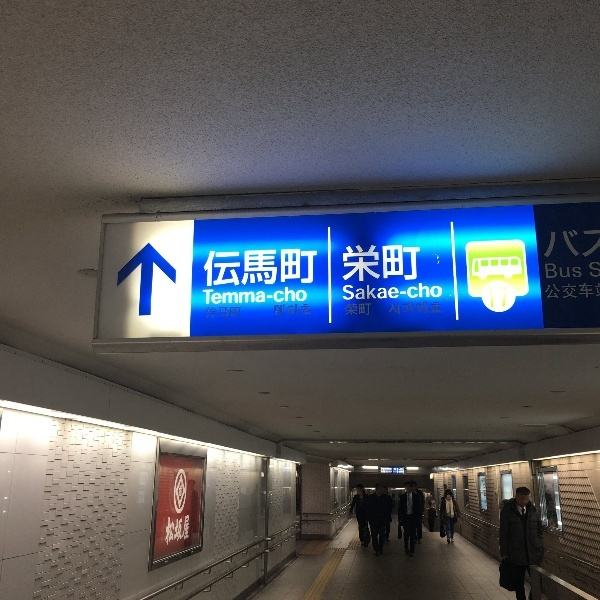text: (209, 247, 224, 288), (225, 247, 240, 288), (241, 247, 256, 288), (257, 247, 272, 288), (273, 247, 288, 288), (289, 247, 304, 288), (353, 243, 368, 283), (369, 243, 384, 283), (385, 243, 400, 283), (401, 243, 416, 283), (545, 223, 560, 262), (561, 223, 576, 262), (577, 223, 592, 262), (177, 468, 189, 514), (305, 247, 318, 288), (177, 513, 190, 547), (165, 513, 176, 547), (343, 243, 352, 283), (593, 223, 600, 262), (417, 281, 432, 299), (545, 263, 560, 280), (561, 263, 576, 280), (545, 283, 560, 300), (561, 283, 576, 300), (577, 283, 592, 300), (401, 301, 416, 317), (417, 301, 432, 317), (353, 302, 368, 317), (209, 289, 224, 304), (225, 289, 240, 304), (241, 289, 256, 304), (289, 287, 304, 302), (353, 285, 368, 300), (369, 285, 384, 300), (209, 306, 224, 320), (225, 306, 240, 320), (274, 287, 288, 302), (385, 285, 399, 300), (203, 247, 208, 288), (289, 304, 304, 317), (274, 304, 288, 317), (406, 281, 416, 299), (433, 281, 443, 299), (389, 301, 400, 317), (417, 243, 421, 283), (433, 301, 443, 317), (343, 302, 352, 317), (257, 289, 266, 304), (343, 285, 352, 300), (305, 304, 313, 317), (577, 263, 583, 280), (174, 468, 176, 514), (385, 468, 400, 473), (203, 289, 208, 304), (369, 302, 373, 317), (543, 223, 544, 262), (593, 283, 595, 300), (305, 287, 307, 302), (206, 306, 208, 320), (267, 295, 272, 299), (401, 292, 406, 295), (241, 306, 242, 320)
